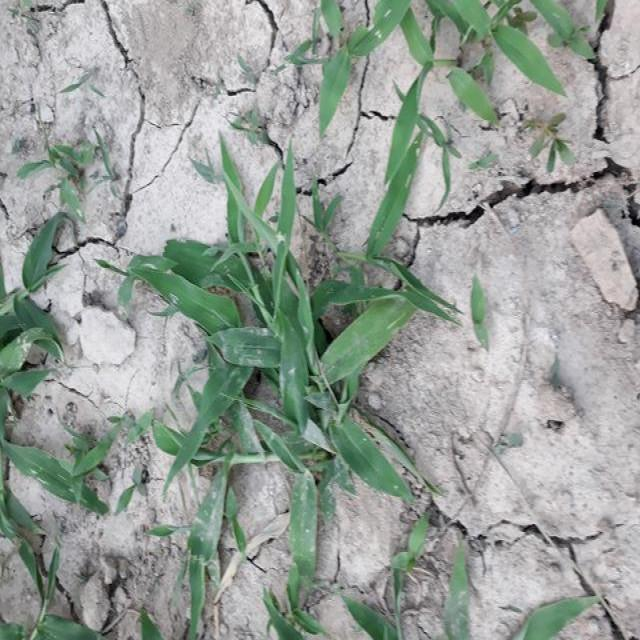weed: (150, 181, 410, 534), (317, 0, 592, 113), (0, 226, 63, 449)
